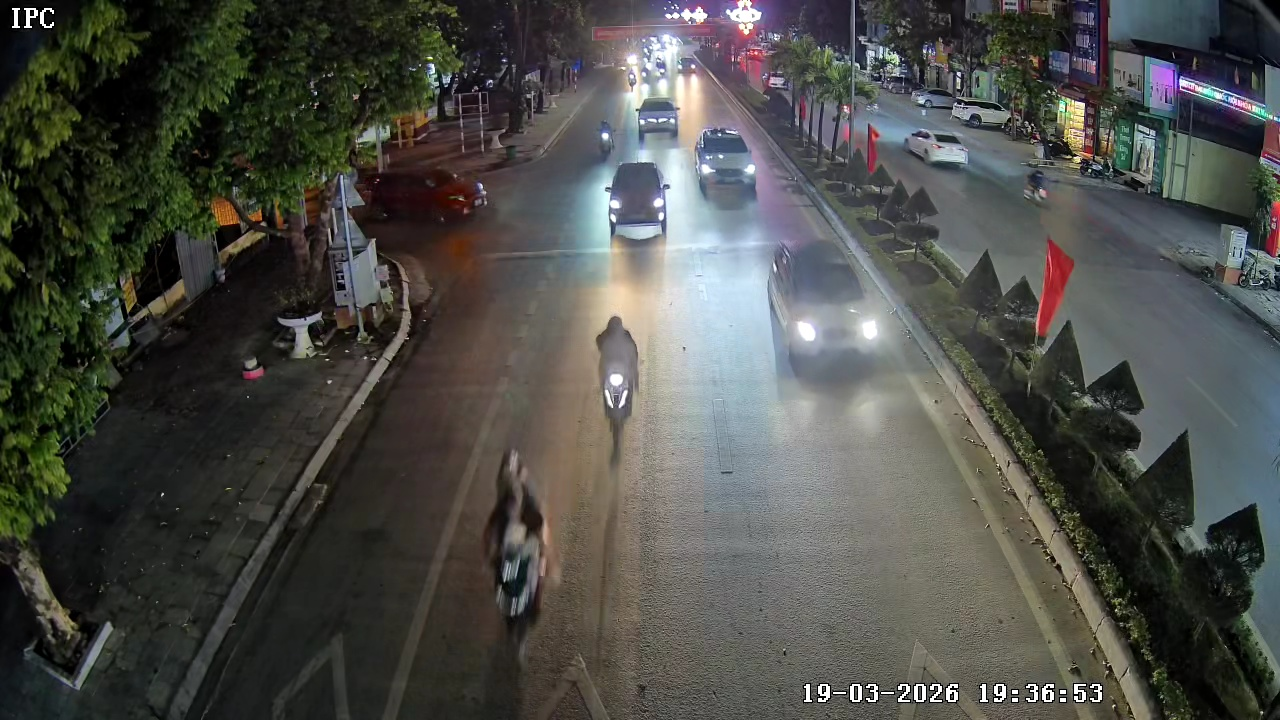car: (767, 239, 881, 375), (603, 158, 671, 241), (693, 124, 757, 199), (904, 128, 968, 171), (635, 90, 684, 142)
motorbike: (483, 438, 549, 647), (598, 306, 640, 458), (594, 117, 617, 160)
